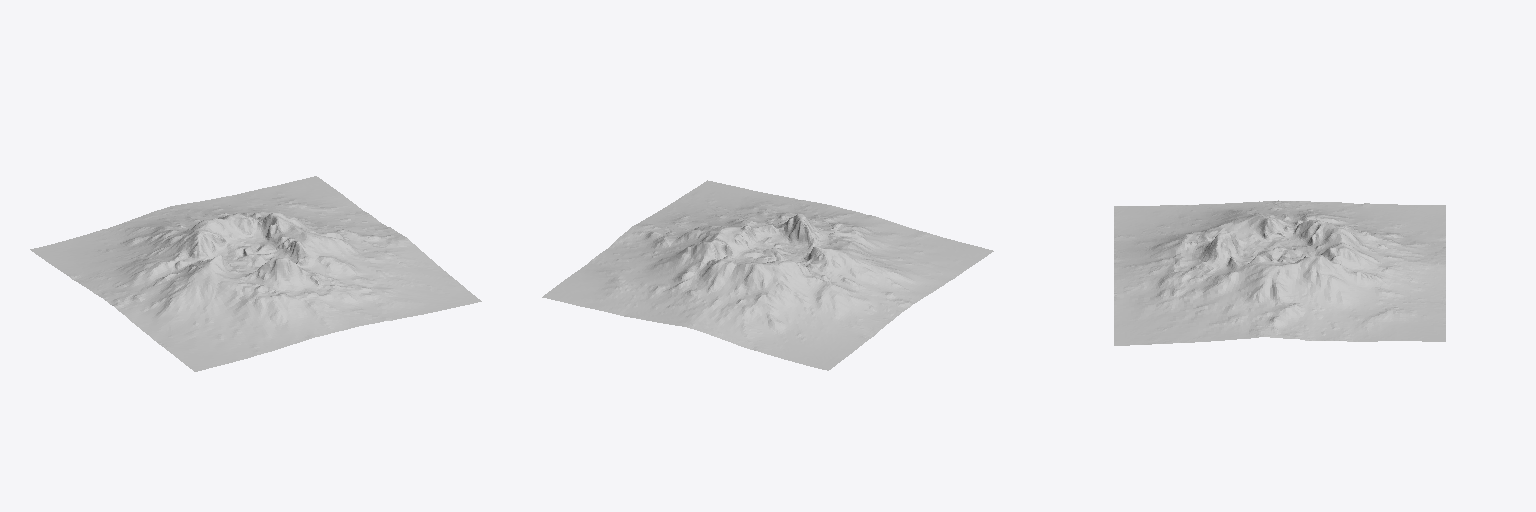
The model's file is Volcano.OBJ.
3 views of the same model, side by side, from view 1: azimuth 30°, elevation 25°; view 2: azimuth 150°, elevation 25°; view 3: azimuth 270°, elevation 25° (orthographic).
Visible parts, largest first — view 1: Volcano; view 2: Volcano; view 3: Volcano.
Part boxes in pixels (bbox=[...]): Volcano: bbox=[30, 176, 481, 371]; Volcano: bbox=[542, 180, 993, 370]; Volcano: bbox=[1114, 200, 1445, 345].
Bounding box in the file's own units: 0.9996 × 0.1366 × 0.9996.